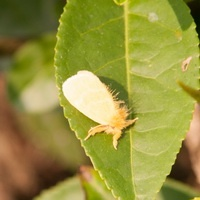insect: (62, 70, 137, 148)
